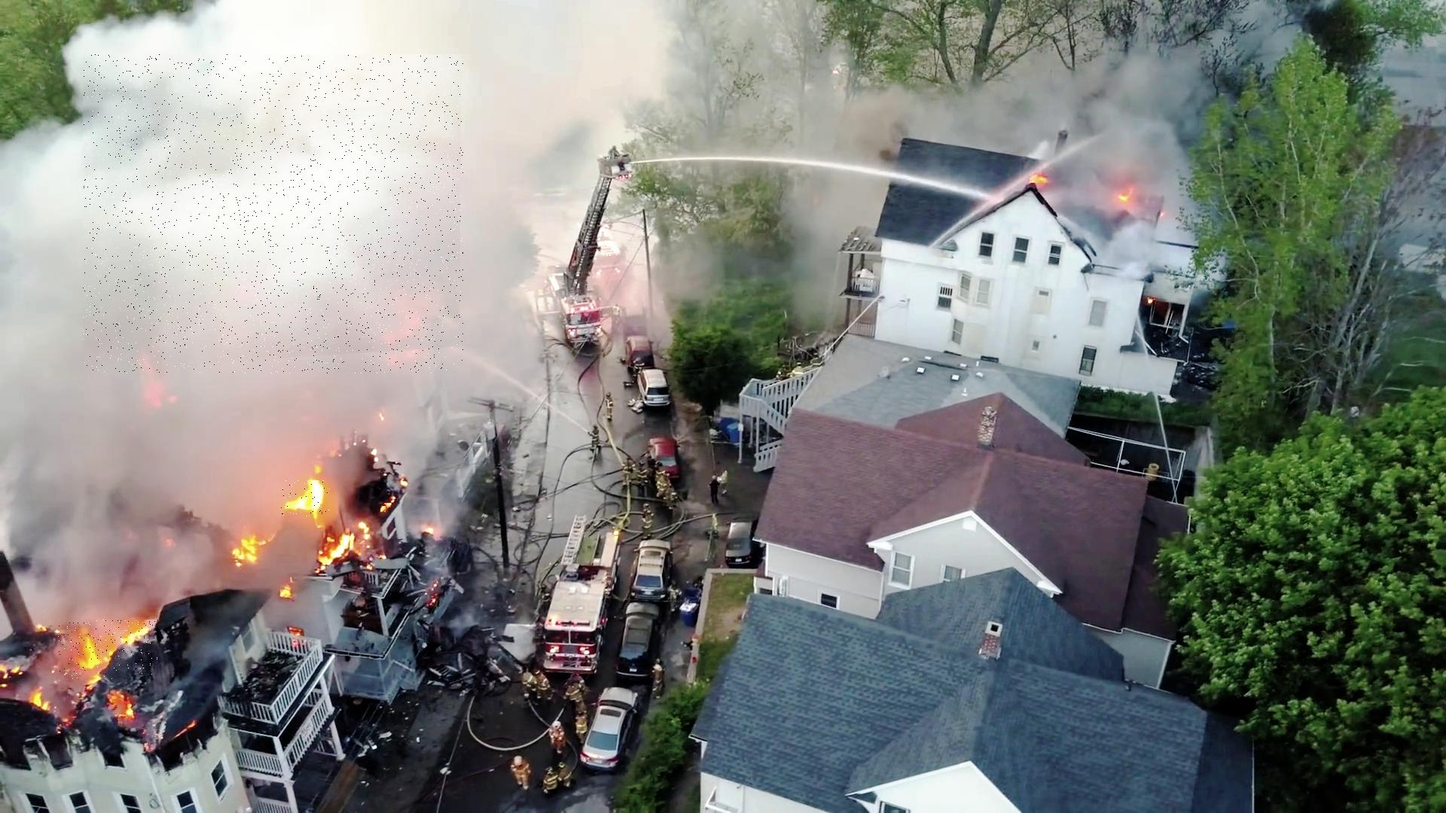fire: (58, 620, 158, 679), (281, 480, 330, 517)
smoke: (84, 55, 464, 374)
